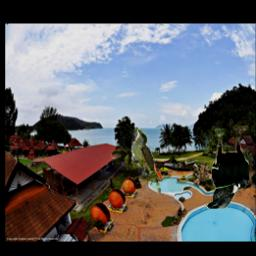Crow: (204, 126, 249, 210)
Cuckoo: (131, 130, 161, 195)
